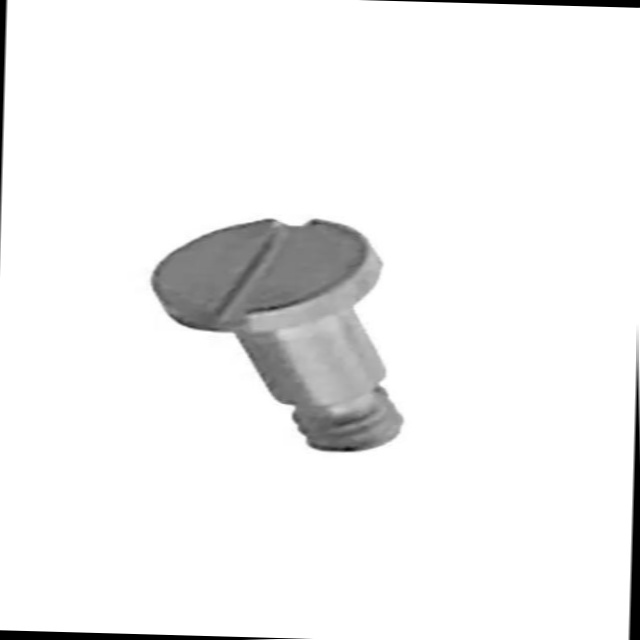duz: (150, 213, 387, 339)
